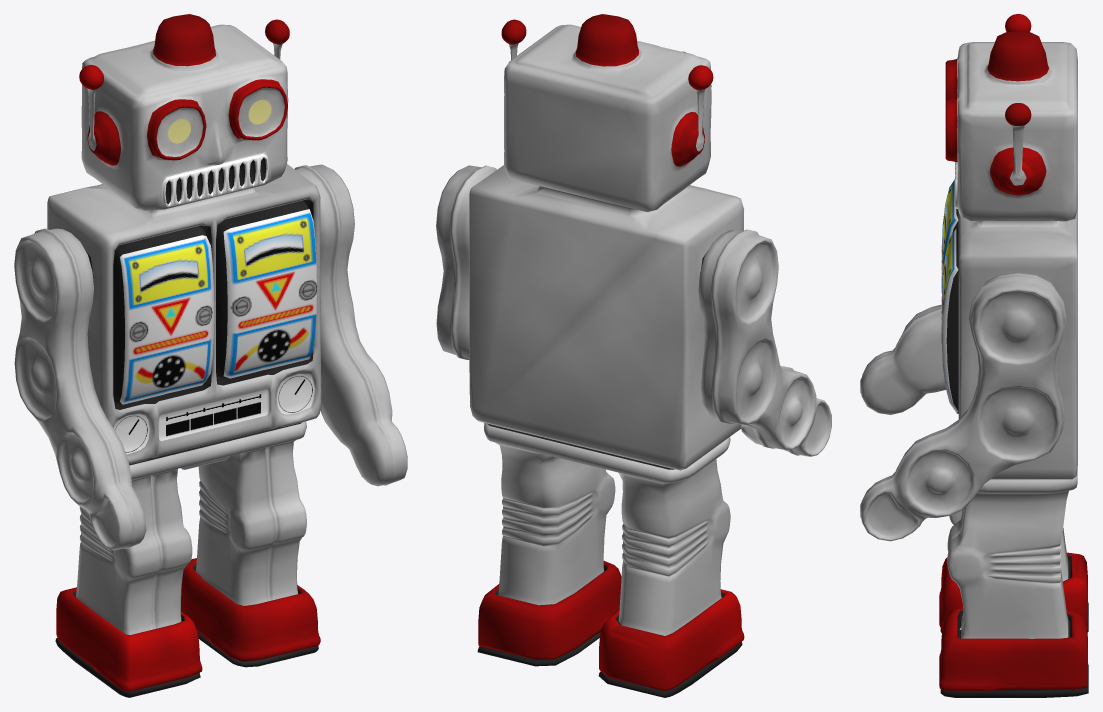
Rendered from Robot.FBX.
3 views of the same model, side by side, from view 1: azimuth 30°, elevation 25°; view 2: azimuth 150°, elevation 25°; view 3: azimuth 270°, elevation 25° (orthographic). The views are drawn at different scales.
Visible parts, largest first — view 1: Box001; view 2: Box001; view 3: Box001.
Boxes of the visible parts, bbox=[...] form: Box001: bbox=[14, 14, 407, 697]; Box001: bbox=[436, 14, 831, 697]; Box001: bbox=[860, 14, 1088, 697].
Size of the model in its own units: 45.12 by 89.76 by 30.2.
1 material, 1 textured.
